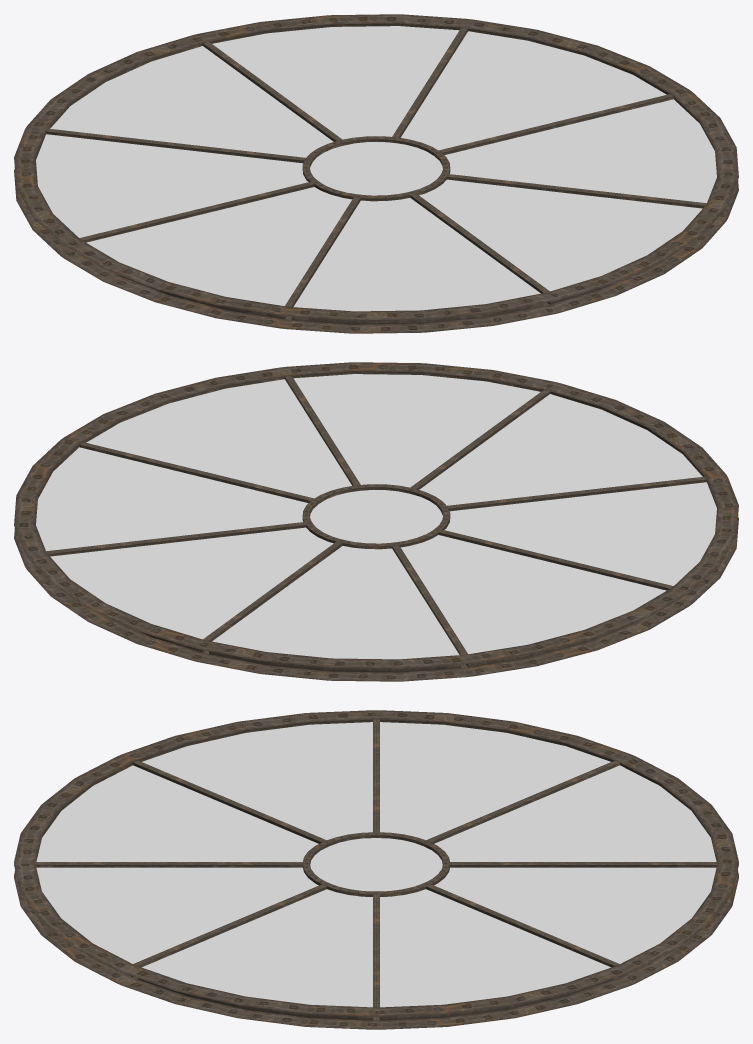
3 renders of one model, top to bottom at view 1: azimuth 30°, elevation 25°; view 2: azimuth 150°, elevation 25°; view 3: azimuth 270°, elevation 25°, orthographic.
Parts seen in each view (by area): view 1: SM_CircularStainedGlass_LOD0; view 2: SM_CircularStainedGlass_LOD0; view 3: SM_CircularStainedGlass_LOD0.
Part boxes in pixels (<box>): SM_CircularStainedGlass_LOD0: <box>14,14,738,333</box>; SM_CircularStainedGlass_LOD0: <box>14,362,738,681</box>; SM_CircularStainedGlass_LOD0: <box>14,710,738,1029</box>.
Size of the model in its own units: 9.99 by 0.2 by 9.99.
2 materials, 1 textured.
